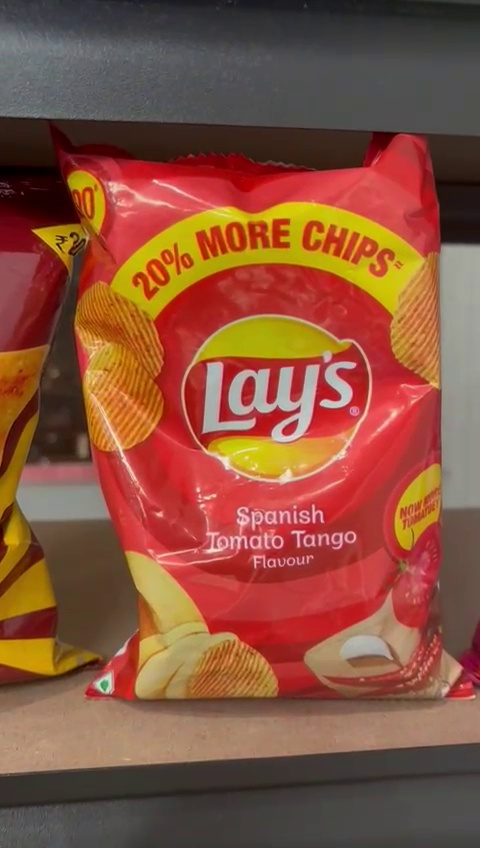Lays: (70, 153, 444, 699)
